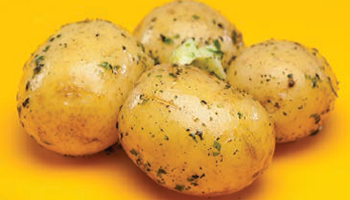boiled potatoes: (128, 68, 276, 191), (21, 28, 144, 151), (224, 43, 336, 135), (141, 3, 234, 70)
